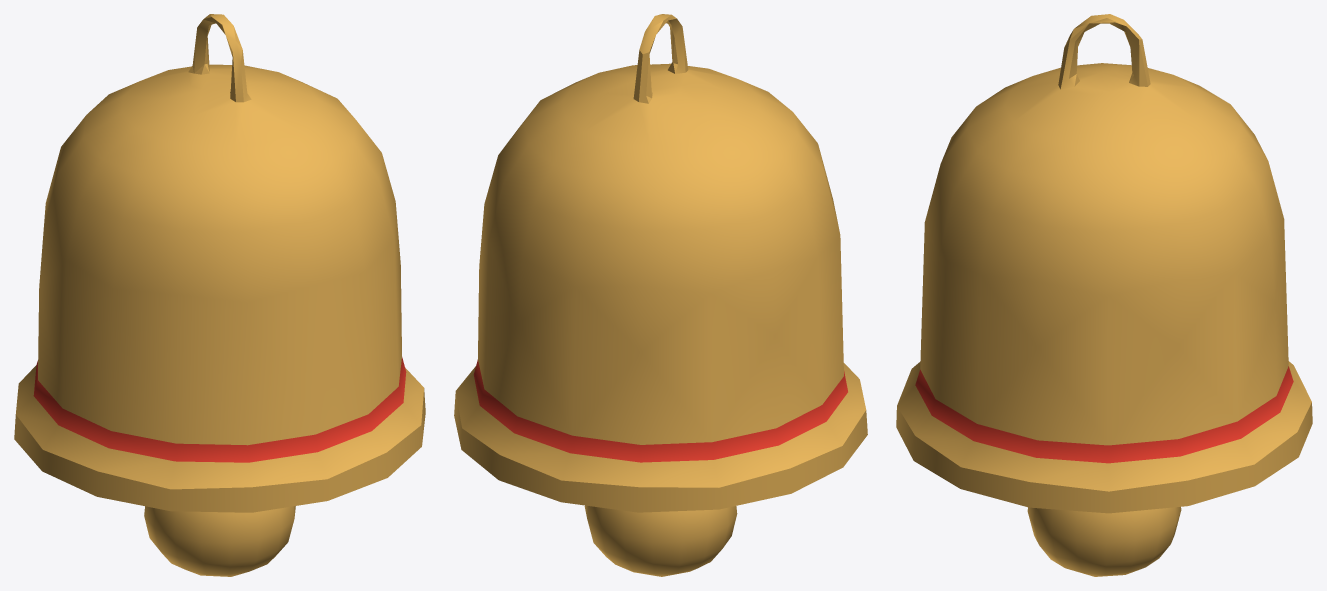
File: bell.fbx
3 views of the same model, side by side, from view 1: azimuth 30°, elevation 25°; view 2: azimuth 150°, elevation 25°; view 3: azimuth 270°, elevation 25° (orthographic).
Parts seen in each view (by area): view 1: Cylinder.003; view 2: Cylinder.003; view 3: Cylinder.003.
Part boxes in pixels (x1,y1,x2,y2): Cylinder.003: (14,14,425,576); Cylinder.003: (454,14,867,576); Cylinder.003: (896,14,1312,576).
Bounding box in the file's own units: 126 × 184 × 126.
